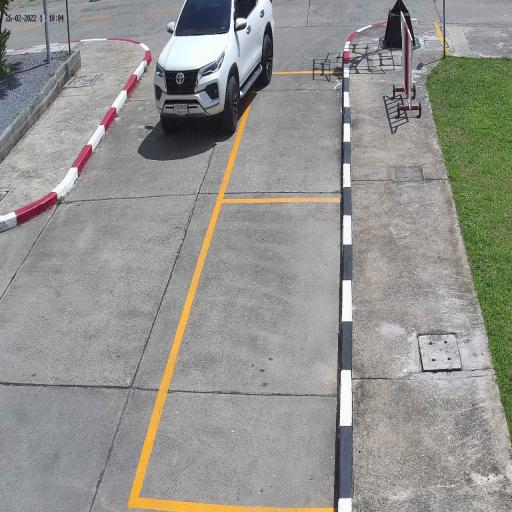car: (152, 0, 277, 137)
